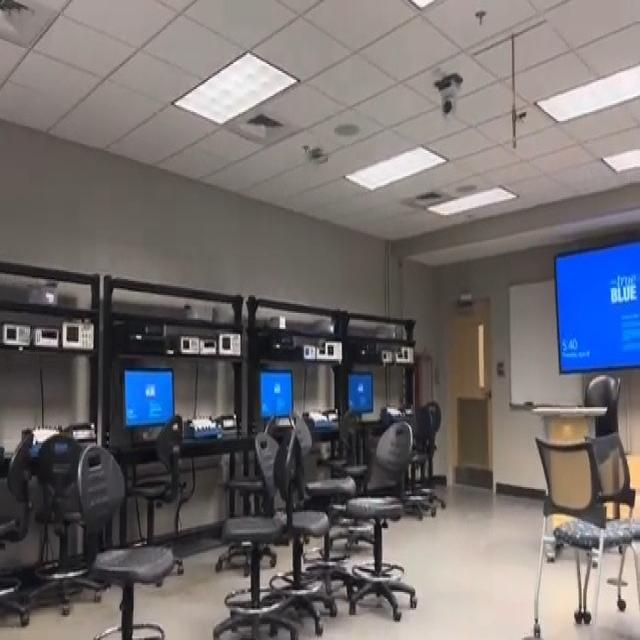drone: (292, 130, 334, 176)
